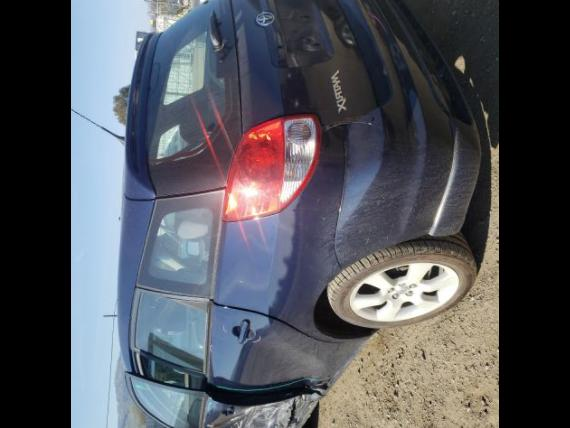Broken part: (124, 347, 328, 428)
Dent: (236, 327, 327, 382), (201, 391, 323, 428)
Missing part: (278, 9, 327, 51)
Scratch: (291, 398, 316, 428), (258, 405, 280, 428), (273, 400, 291, 428), (245, 406, 260, 425), (234, 418, 245, 428)
